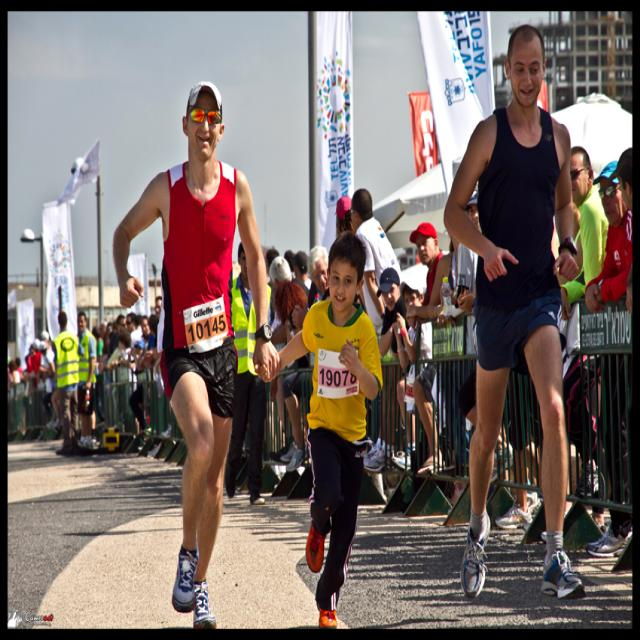Bib: (189, 317, 227, 343), (318, 368, 356, 392)
